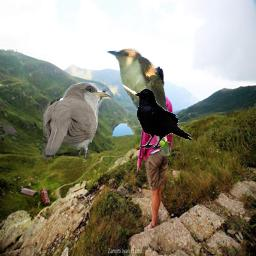Crow: (133, 88, 194, 149)
Cuckoo: (104, 47, 173, 161), (40, 82, 111, 160)
